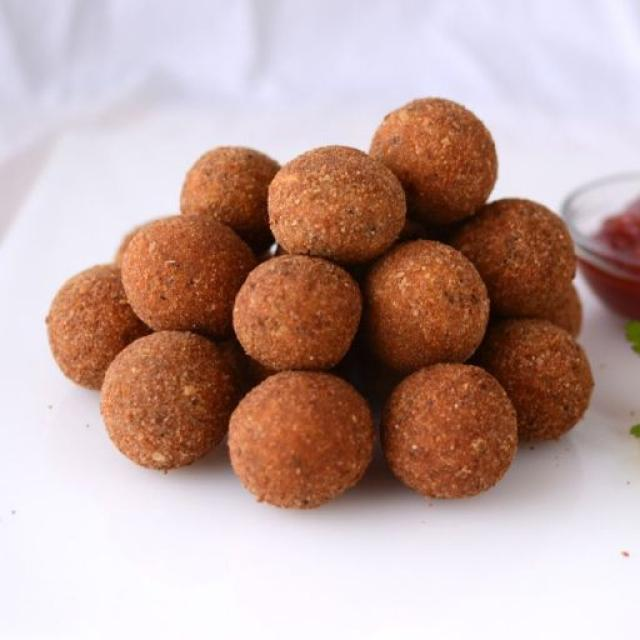Cutlet: (372, 363, 515, 498), (103, 337, 229, 473), (260, 147, 405, 255), (229, 258, 367, 369), (114, 218, 236, 337), (371, 247, 489, 360)
